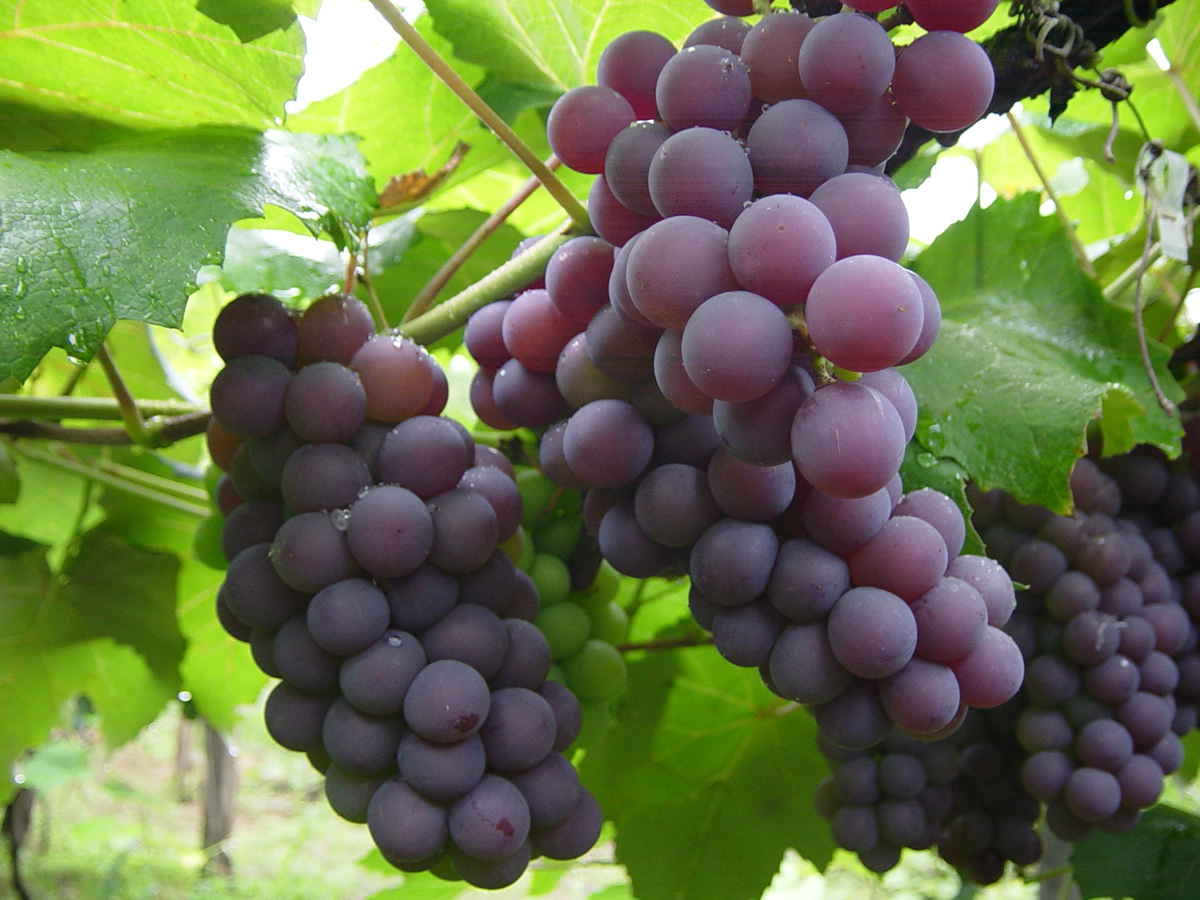Red Grapes: (464, 22, 1034, 721), (171, 270, 620, 877)
